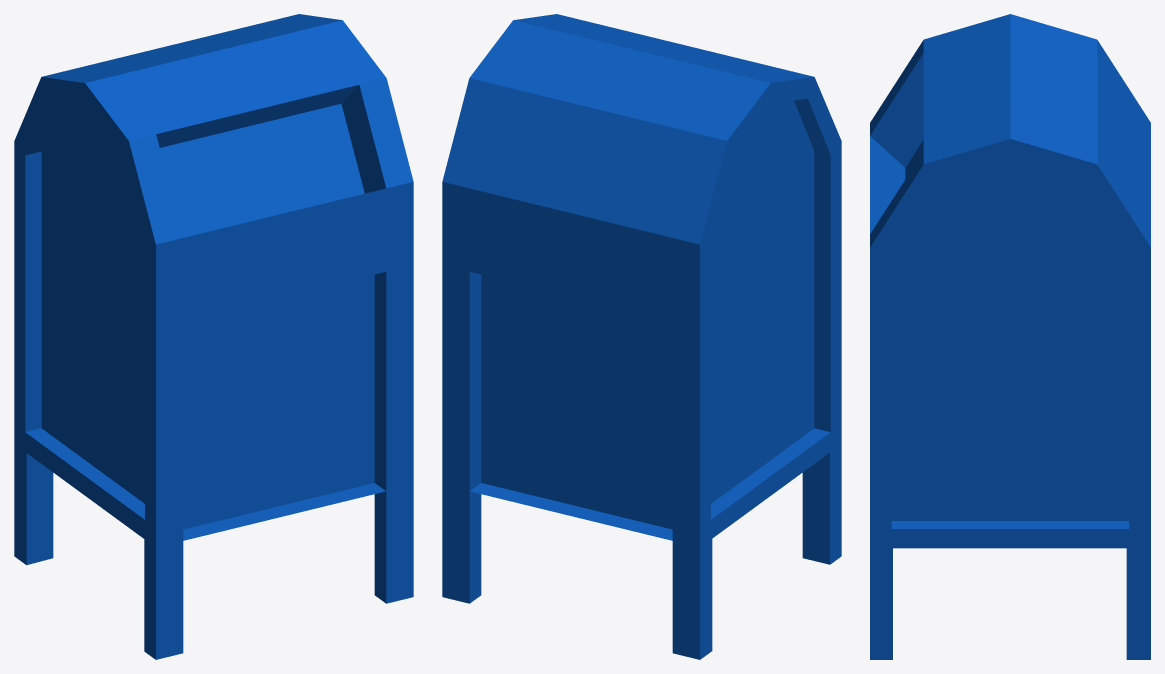
File: mailbox.glb
3 renders of one model, left to right at view 1: azimuth 30°, elevation 25°; view 2: azimuth 150°, elevation 25°; view 3: azimuth 270°, elevation 25°, orthographic.
Parts seen in each view (by area): view 1: MailBox_Cylinder.017; view 2: MailBox_Cylinder.017; view 3: MailBox_Cylinder.017.
Part boxes in pixels (box(x1,y1,x2,y2)): MailBox_Cylinder.017: box(14, 14, 413, 659); MailBox_Cylinder.017: box(442, 14, 841, 659); MailBox_Cylinder.017: box(870, 14, 1150, 659).
Bounding box in the file's own units: 4.91 × 9.55 × 4.67.
